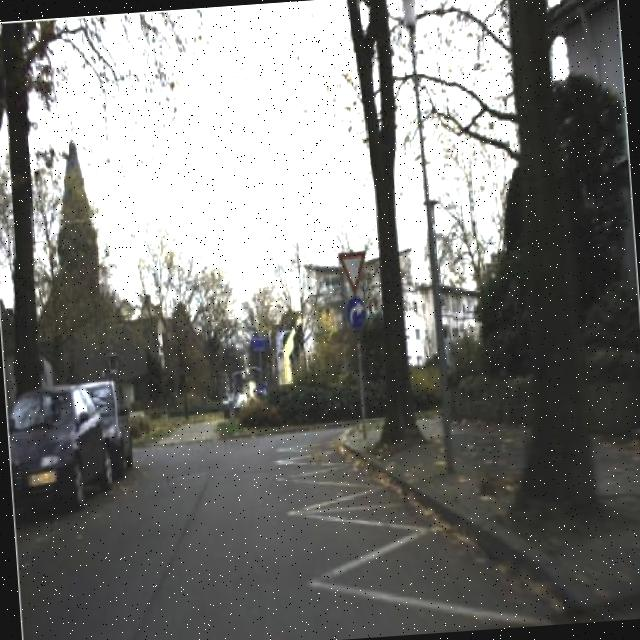Ustap pierwszenstwa: (336, 248, 370, 292)
